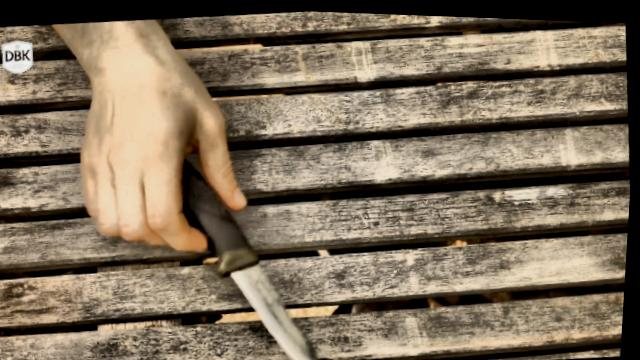knife: (126, 139, 351, 360)
